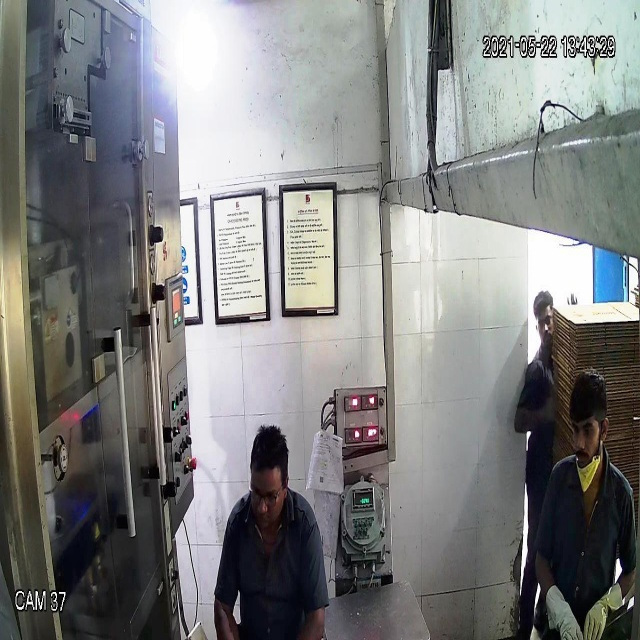Gafas: (245, 478, 288, 513)
Sin_gafas: (571, 415, 603, 443)
